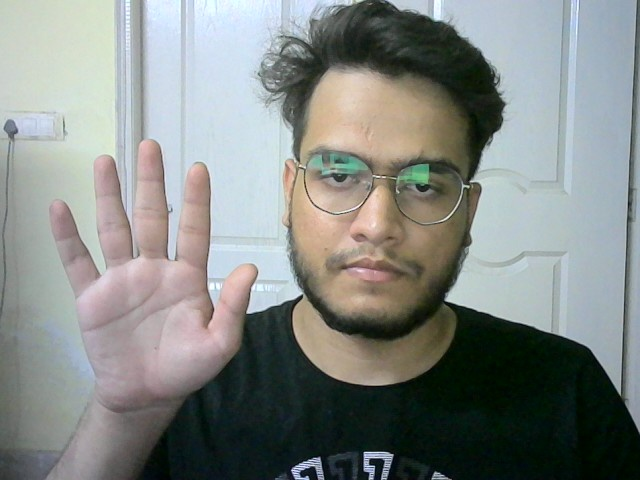Hello: (39, 131, 269, 404)
